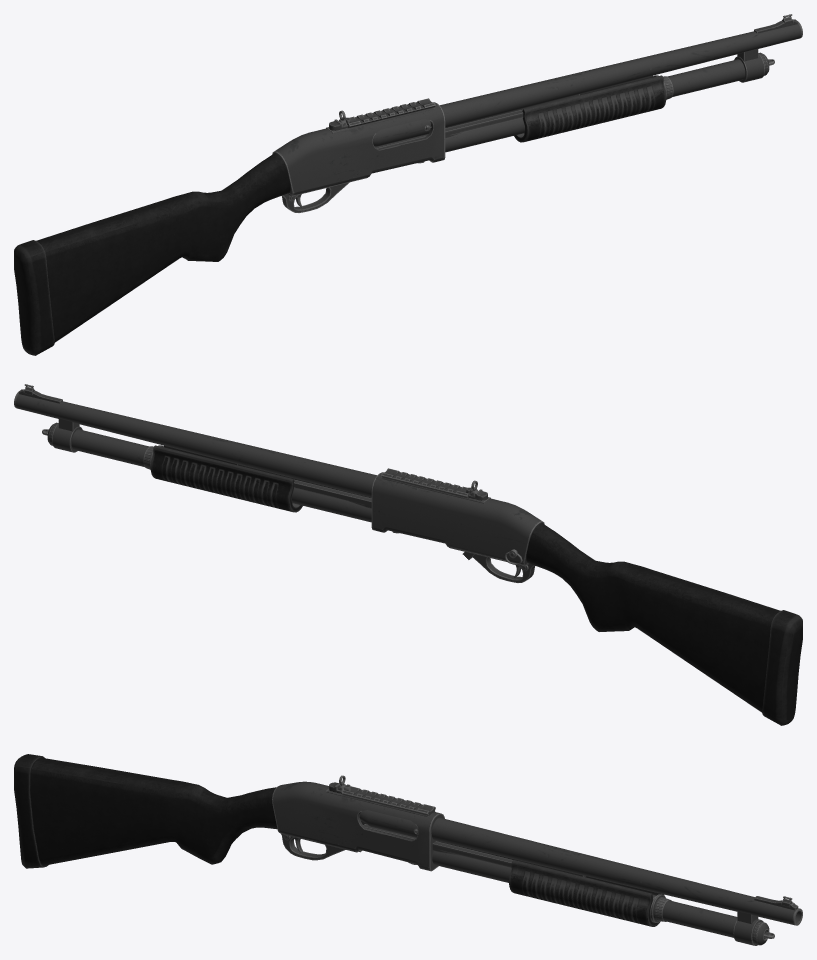
File: Remington870.fbx
The picture shows the model from 3 angles, top to bottom: view 1: azimuth 30°, elevation 25°; view 2: azimuth 150°, elevation 25°; view 3: azimuth 330°, elevation 25°; orthographic projection.
Visible parts, largest first — view 1: Remington870; view 2: Remington870; view 3: Remington870.
Boxes of the visible parts, box(x1,y1,x2,y2) form: Remington870: box(14, 14, 802, 355); Remington870: box(14, 384, 802, 725); Remington870: box(14, 754, 802, 945).
Size of the model in its own units: 115 by 23.45 by 5.
